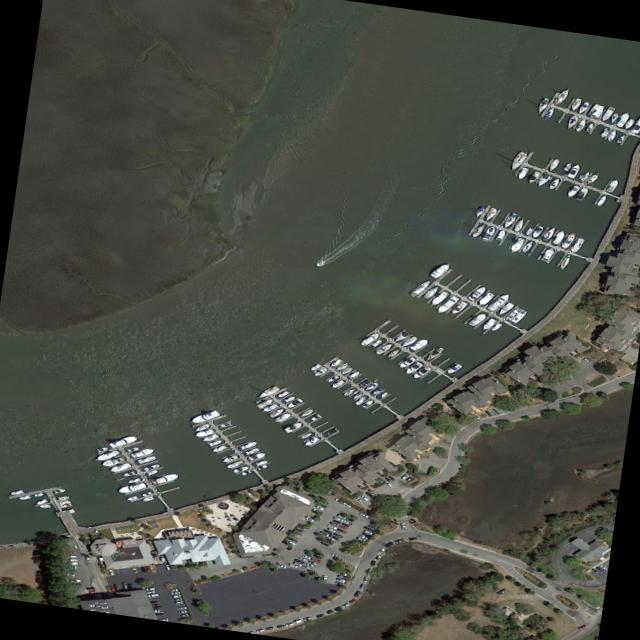ship: (433, 295, 461, 316), (406, 279, 434, 298), (187, 410, 222, 425), (485, 293, 511, 312), (107, 434, 139, 449), (115, 482, 148, 495), (148, 472, 180, 485), (427, 290, 451, 307), (507, 151, 527, 171), (465, 285, 488, 302), (428, 263, 452, 279), (551, 88, 572, 106), (505, 307, 527, 324), (474, 292, 497, 308), (357, 332, 381, 347), (255, 385, 280, 399), (557, 233, 577, 250), (129, 447, 157, 459), (93, 450, 121, 462), (421, 347, 443, 362), (466, 312, 488, 327), (598, 105, 617, 122), (567, 237, 586, 254), (507, 237, 526, 254), (408, 338, 430, 352), (402, 361, 424, 375), (373, 342, 395, 356), (479, 225, 497, 242), (533, 98, 551, 114), (100, 457, 126, 468), (410, 366, 432, 379), (397, 356, 417, 370), (449, 301, 469, 315), (399, 335, 419, 349), (420, 286, 441, 299), (614, 111, 630, 128), (482, 206, 499, 222), (469, 223, 486, 239), (583, 171, 601, 186), (496, 302, 514, 317), (538, 247, 556, 262), (539, 227, 557, 242), (478, 318, 498, 331), (572, 117, 588, 133), (557, 254, 573, 270), (501, 213, 517, 229), (573, 186, 590, 201), (563, 115, 580, 130), (525, 170, 542, 185), (282, 421, 303, 433), (108, 463, 132, 473), (567, 98, 583, 113), (628, 116, 640, 136), (604, 178, 621, 192), (534, 174, 551, 188), (301, 437, 322, 448), (192, 428, 215, 438), (392, 331, 411, 343), (566, 164, 581, 179), (514, 167, 530, 181), (550, 231, 566, 245), (510, 218, 526, 232), (272, 412, 292, 423), (254, 398, 274, 409), (246, 451, 267, 461), (136, 455, 157, 465), (565, 185, 580, 199), (575, 102, 590, 116), (284, 398, 303, 409), (545, 177, 561, 190), (259, 404, 279, 414), (444, 363, 462, 374), (541, 107, 555, 121), (546, 159, 561, 172), (519, 241, 534, 254), (471, 205, 487, 217), (199, 434, 220, 443), (237, 441, 258, 450), (385, 348, 402, 359), (605, 129, 619, 142), (530, 226, 544, 239), (332, 362, 350, 372), (297, 409, 315, 419), (328, 380, 346, 390), (231, 465, 251, 474), (142, 463, 162, 472), (241, 447, 261, 456), (622, 119, 637, 131), (192, 423, 211, 432), (224, 460, 243, 469), (338, 366, 355, 376), (311, 368, 328, 378), (344, 370, 361, 380), (220, 455, 238, 464), (267, 408, 285, 417), (341, 387, 357, 397), (359, 399, 375, 409), (209, 445, 229, 453), (362, 382, 378, 392), (577, 171, 590, 183), (493, 229, 506, 241), (594, 195, 608, 206), (597, 128, 611, 139), (327, 359, 344, 368), (488, 323, 503, 333), (583, 122, 596, 133), (207, 439, 224, 447), (349, 391, 364, 400), (324, 427, 339, 436), (370, 386, 383, 396), (354, 396, 367, 406), (275, 391, 291, 399), (369, 339, 383, 348), (308, 363, 322, 372), (615, 133, 626, 144), (325, 375, 340, 383), (8, 489, 25, 496), (282, 396, 296, 404), (94, 446, 109, 453), (309, 413, 322, 421), (523, 227, 534, 236), (299, 432, 313, 439), (144, 469, 158, 476), (127, 477, 141, 484), (314, 259, 326, 267), (217, 422, 233, 428), (359, 380, 372, 387), (253, 460, 268, 466), (122, 471, 136, 477), (255, 464, 267, 471), (240, 469, 252, 476), (125, 447, 139, 453), (51, 488, 65, 494), (34, 499, 47, 505), (141, 496, 154, 502), (140, 491, 153, 497), (55, 496, 69, 501), (125, 496, 137, 501), (379, 391, 387, 398), (67, 579, 81, 583), (37, 504, 51, 508), (32, 492, 43, 497), (18, 496, 31, 500), (65, 558, 77, 562), (59, 504, 71, 508), (59, 500, 71, 504), (66, 562, 79, 565), (64, 573, 75, 576)
small-vehicle: (495, 588, 508, 595), (357, 512, 369, 519), (285, 540, 297, 547), (309, 558, 323, 564), (286, 537, 297, 544), (341, 502, 352, 509), (362, 526, 374, 532), (578, 625, 588, 632), (579, 356, 589, 363), (331, 519, 342, 525), (329, 535, 340, 541), (354, 497, 365, 503), (304, 517, 315, 523), (287, 563, 298, 569), (359, 495, 368, 502), (598, 565, 608, 571), (382, 543, 392, 549), (147, 593, 159, 598), (292, 619, 302, 625), (333, 498, 343, 504), (275, 563, 285, 569), (312, 508, 322, 514), (327, 525, 337, 531), (591, 568, 599, 575), (353, 590, 361, 597), (294, 559, 305, 564), (319, 541, 330, 546), (332, 517, 343, 522), (332, 606, 341, 612), (319, 531, 328, 537), (329, 521, 338, 527), (317, 503, 327, 508), (323, 529, 333, 534), (336, 529, 346, 534), (314, 506, 324, 511), (297, 526, 307, 531), (294, 529, 304, 534), (292, 562, 302, 567), (306, 569, 316, 574), (305, 563, 315, 568), (301, 555, 311, 560), (342, 520, 352, 525), (338, 525, 348, 530), (399, 523, 406, 530), (365, 568, 372, 575), (113, 584, 120, 591), (107, 570, 114, 577), (472, 414, 480, 420), (368, 524, 376, 530), (325, 488, 333, 494), (394, 539, 403, 544), (483, 411, 492, 416), (364, 492, 373, 497), (354, 540, 363, 545), (333, 533, 342, 538), (336, 578, 345, 583), (356, 537, 365, 542), (358, 535, 367, 540), (363, 530, 372, 535), (340, 603, 349, 608), (336, 514, 345, 519), (303, 552, 312, 557), (312, 554, 321, 559), (255, 628, 264, 633), (327, 537, 336, 542), (326, 528, 335, 533), (401, 474, 408, 480), (375, 555, 382, 561), (121, 583, 127, 590), (109, 586, 115, 593), (164, 565, 171, 571), (358, 584, 365, 590), (595, 567, 603, 572), (387, 476, 395, 481), (384, 478, 392, 483), (377, 549, 385, 554), (154, 609, 164, 613), (155, 612, 165, 616), (334, 581, 344, 585), (336, 575, 346, 579), (366, 489, 374, 494), (298, 558, 308, 562), (140, 567, 146, 573), (302, 617, 311, 621), (362, 576, 368, 582), (360, 533, 369, 537), (345, 518, 354, 522), (340, 523, 349, 527), (336, 572, 345, 576), (309, 561, 318, 565), (405, 477, 412, 482), (322, 575, 327, 582), (145, 588, 156, 591), (330, 554, 341, 557), (325, 610, 333, 614), (315, 614, 323, 618), (348, 599, 356, 603), (284, 622, 292, 626), (407, 537, 417, 540), (370, 561, 375, 567), (126, 583, 131, 589), (152, 606, 162, 609), (149, 600, 159, 603), (131, 568, 136, 574), (168, 589, 178, 592), (170, 592, 180, 595), (171, 595, 181, 598), (176, 607, 186, 610), (151, 604, 160, 607), (86, 587, 95, 590), (174, 601, 183, 604), (178, 610, 187, 613), (275, 625, 284, 628), (302, 566, 311, 569), (145, 567, 150, 572), (92, 594, 100, 597), (173, 598, 181, 601), (179, 614, 187, 617), (265, 627, 273, 630), (145, 591, 155, 593), (72, 584, 80, 586), (89, 591, 97, 593)
